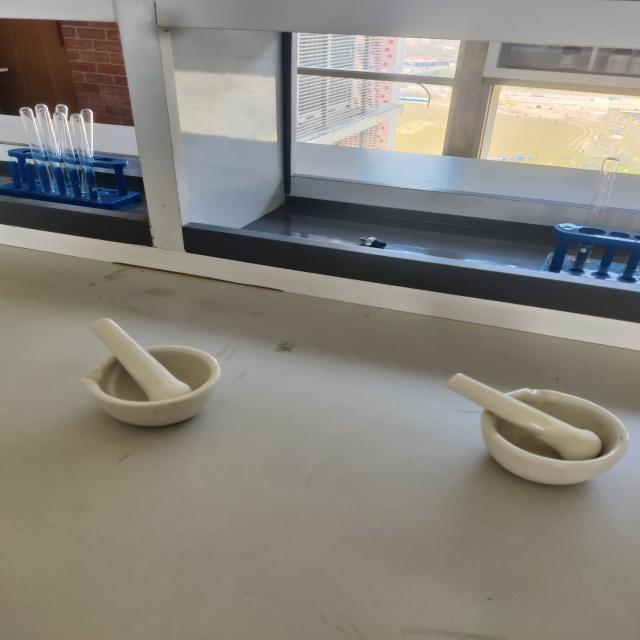Porcelain_Mortar Pestle: (425, 339, 640, 512), (28, 290, 255, 446)
